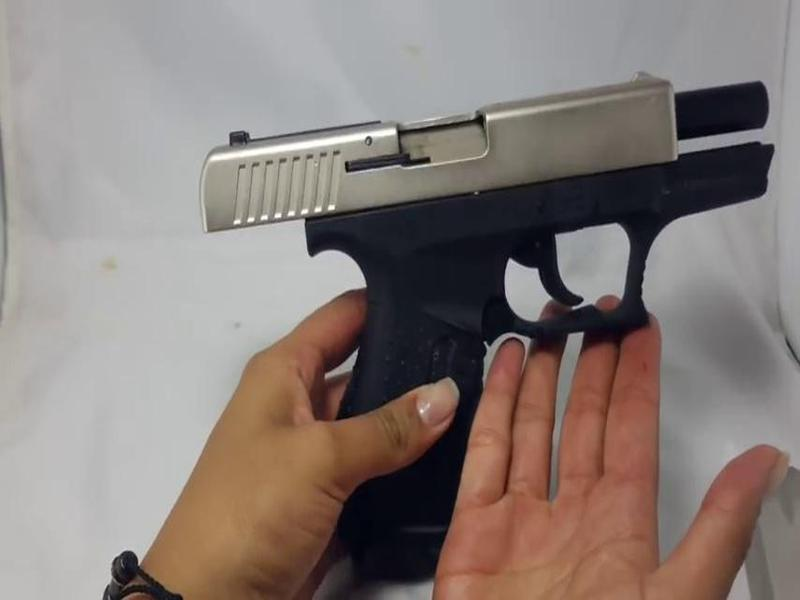Pistola: (194, 70, 800, 561)
